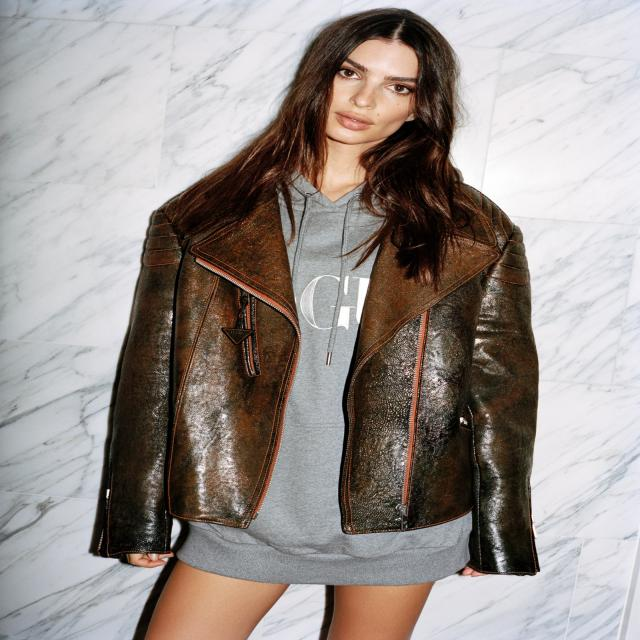Jacket: (74, 143, 578, 588)
